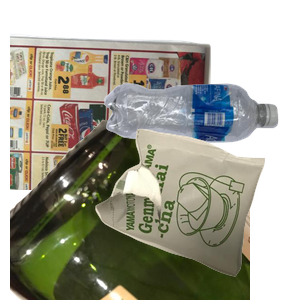glass: (10, 120, 250, 300)
paper: (10, 31, 214, 211)
plastic: (102, 81, 300, 216)
trash: (93, 126, 300, 300)
